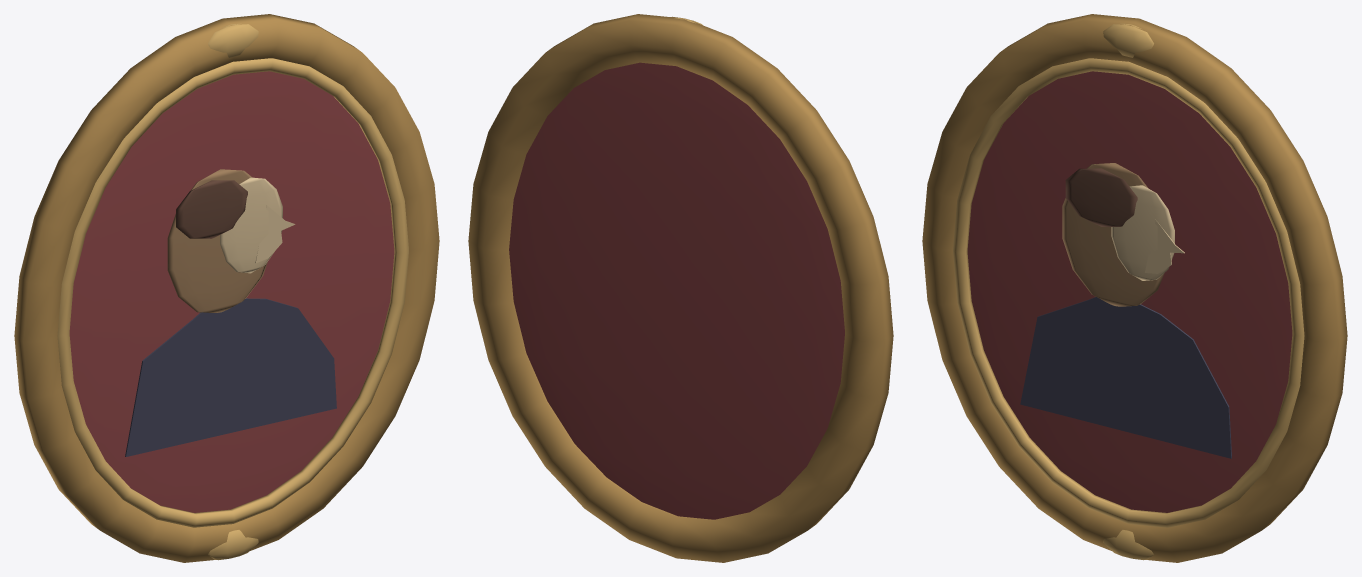
File: picture_frame.glb
3 renders of one model, left to right at view 1: azimuth 30°, elevation 25°; view 2: azimuth 150°, elevation 25°; view 3: azimuth 330°, elevation 25°, orthographic.
Parts seen in each view (by area): view 1: picture_frame; view 2: picture_frame; view 3: picture_frame.
Boxes of the visible parts, left/top/right/bottom form: picture_frame: left=14, top=14, right=439, bottom=562; picture_frame: left=468, top=14, right=893, bottom=562; picture_frame: left=922, top=14, right=1347, bottom=562.
Bounding box in the file's own units: 0.62 × 0.76 × 0.05.
